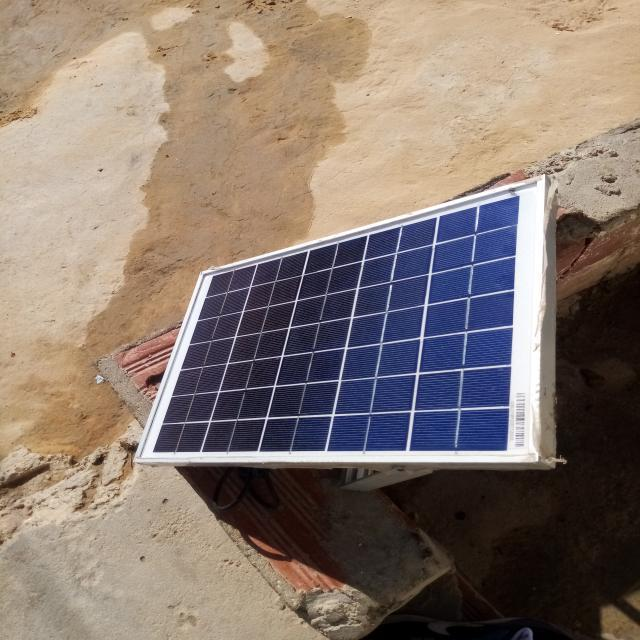Normal Solar Panel: (135, 178, 546, 463)
